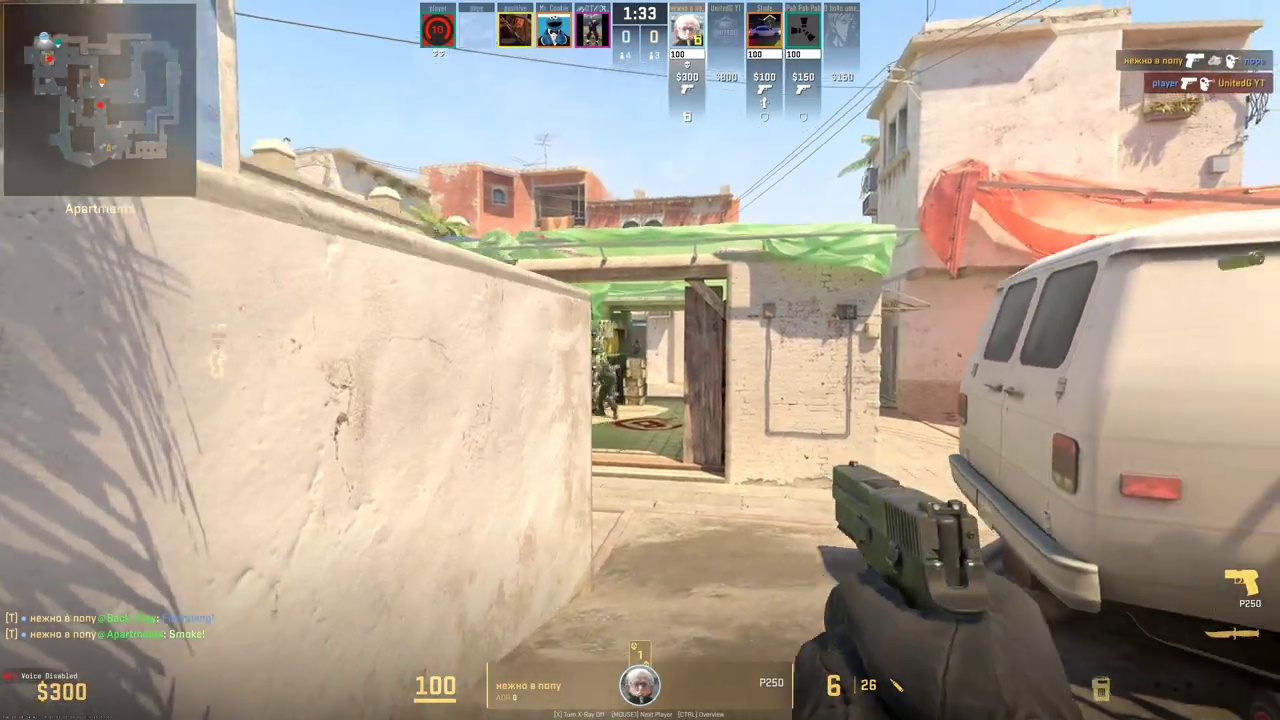CT: (596, 361, 617, 419)
